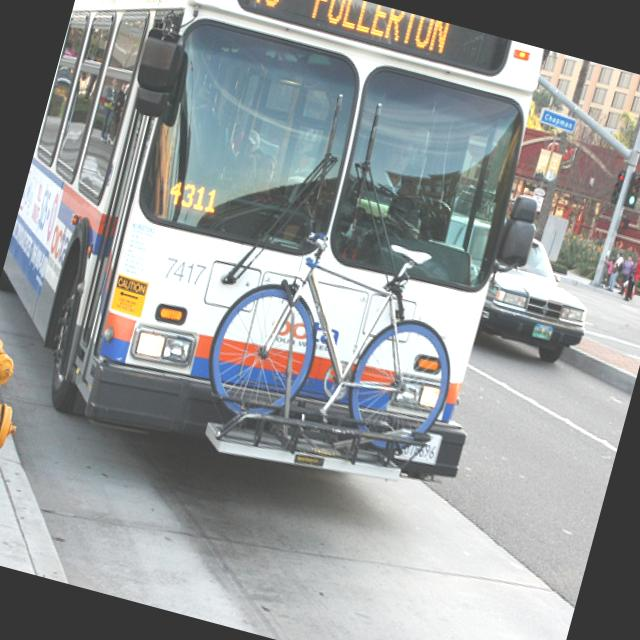Vehicle: (0, 0, 568, 518), (472, 220, 610, 370)
